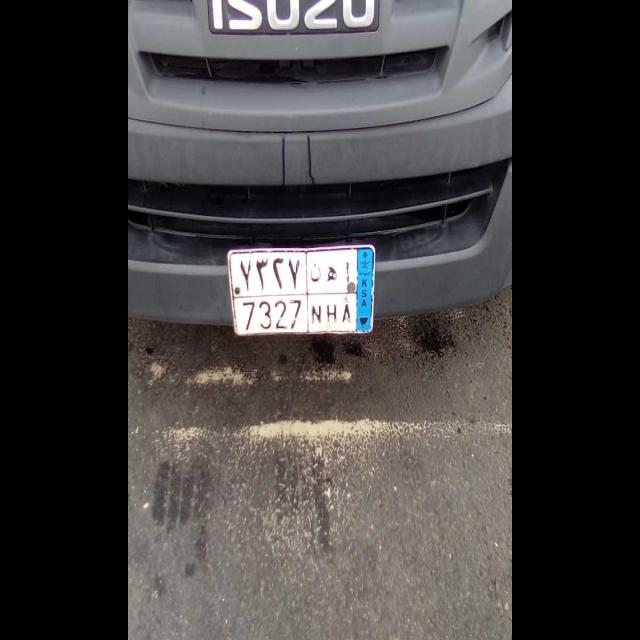license_plate: (230, 296, 356, 338)
